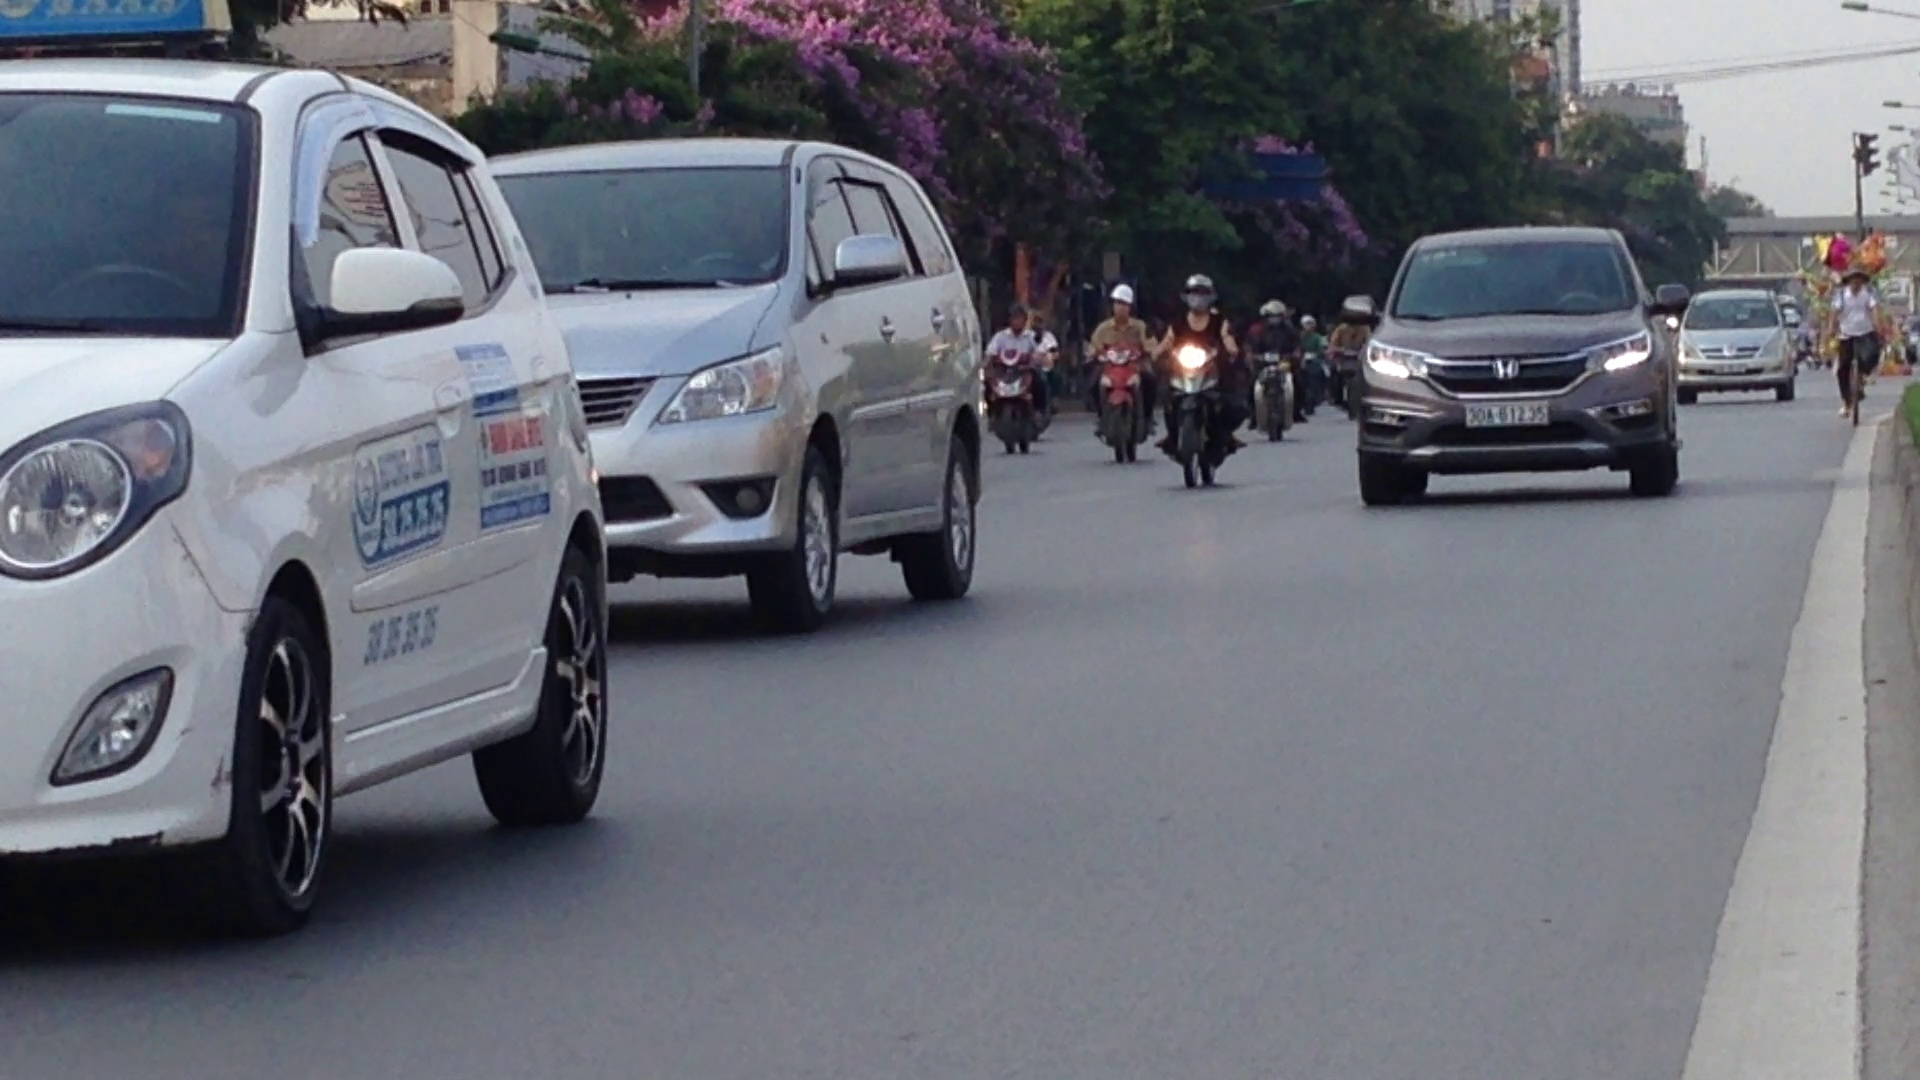vehicle-plate: (1462, 398, 1554, 426)
